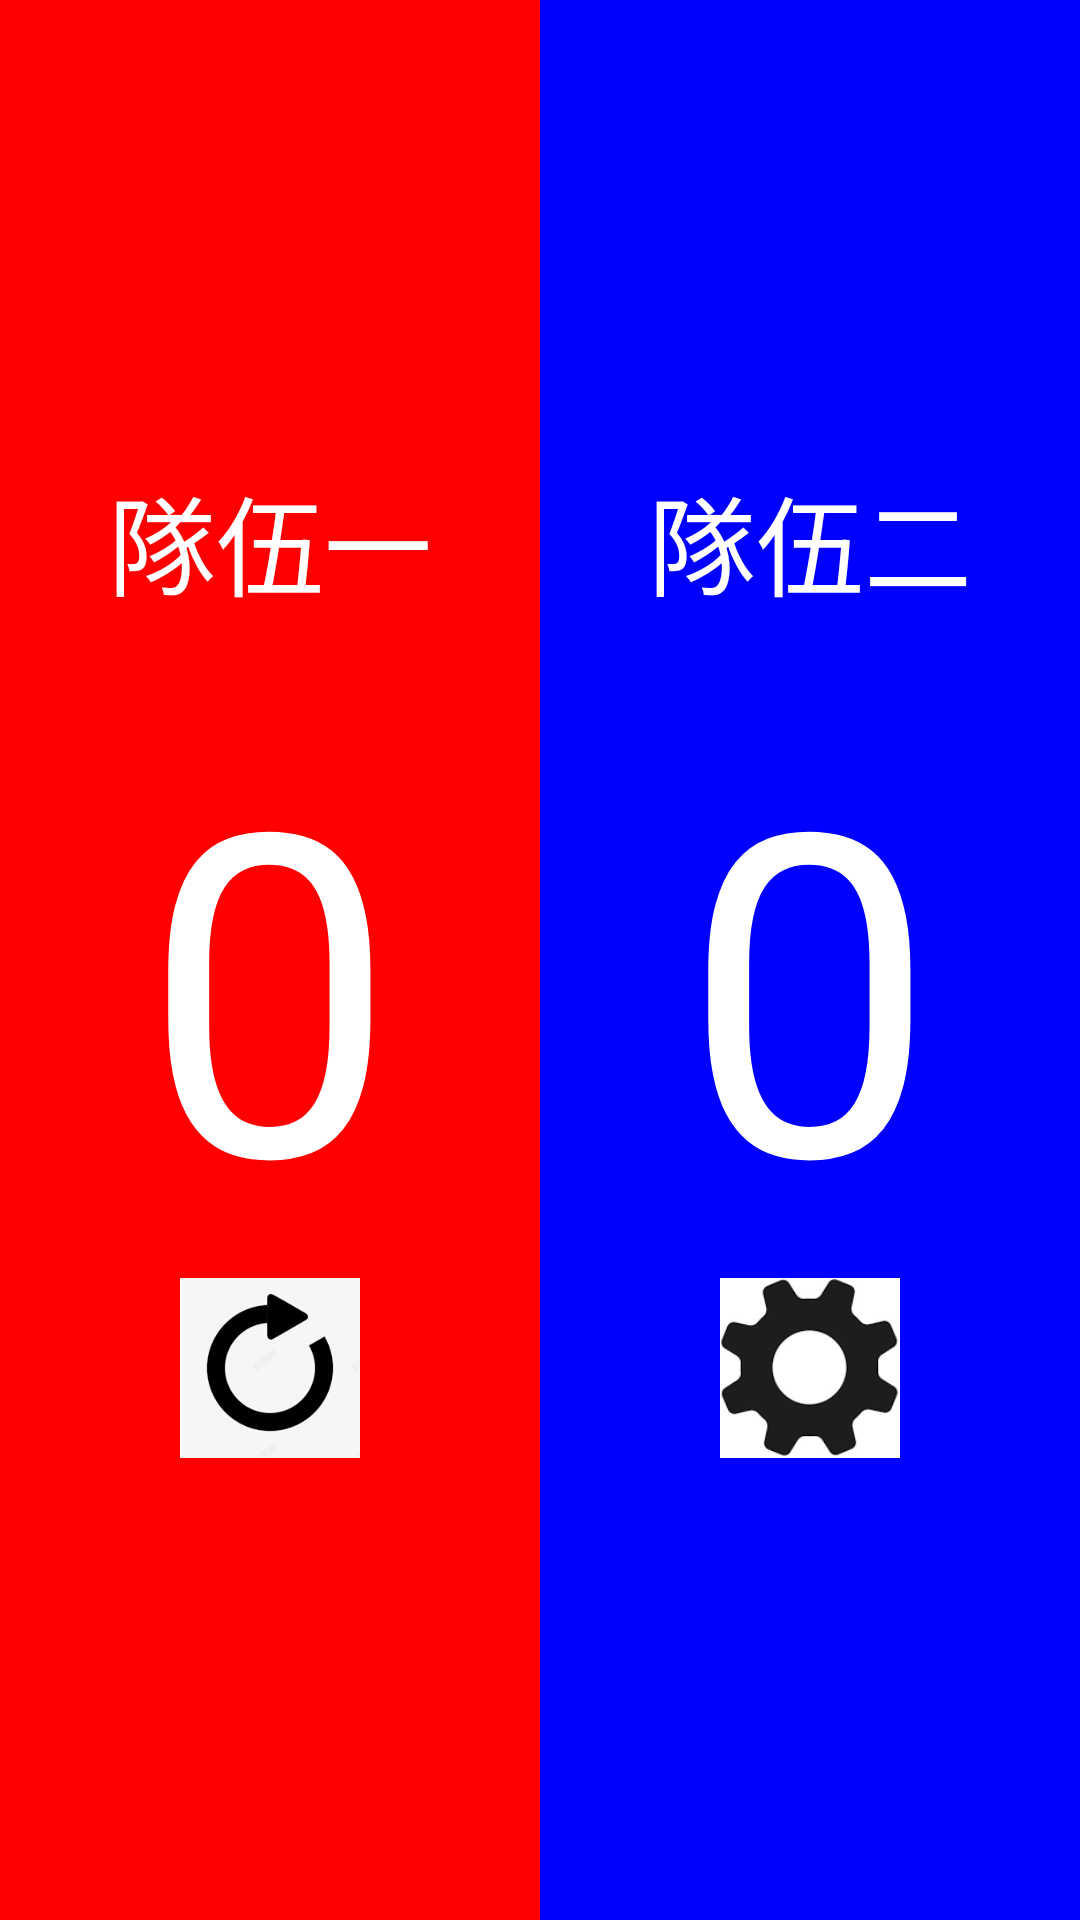

Screen size 1080px x 1920px. Icon name, then its box in pixels as (x1=x1, y1=y1, x2=x2, y2=y2):
設置: (x1=720, y1=1278, x2=900, y2=1458)
重置分數: (x1=180, y1=1278, x2=360, y2=1458)
